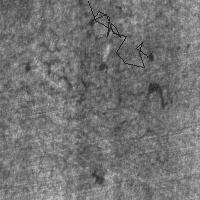crazing: (88, 1, 152, 67), (3, 42, 72, 93), (90, 117, 164, 159)
